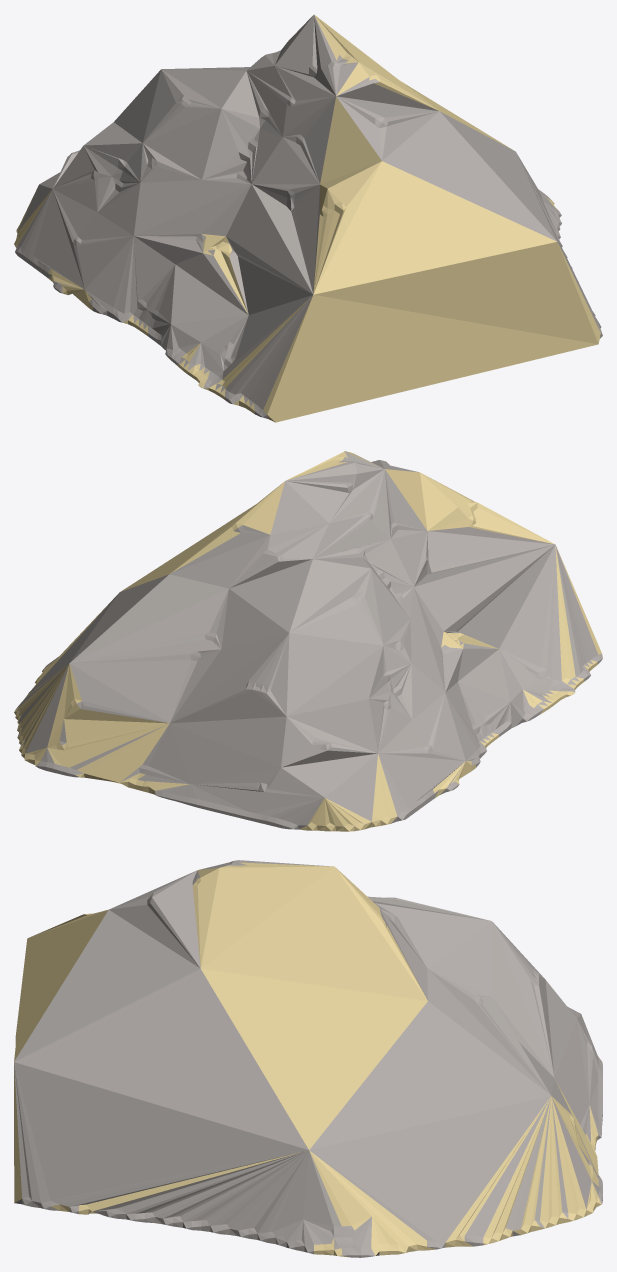
File: rock_e.glb
3 renders of one model, top to bottom at view 1: azimuth 30°, elevation 25°; view 2: azimuth 150°, elevation 25°; view 3: azimuth 270°, elevation 25°, orthographic. The views are drawn at different scales.
Visible parts, largest first — view 1: Mesh_0.010; view 2: Mesh_0.010; view 3: Mesh_0.010.
Boxes of the visible parts, bbox=[...] form: Mesh_0.010: bbox=[14, 14, 602, 422]; Mesh_0.010: bbox=[14, 451, 602, 831]; Mesh_0.010: bbox=[14, 860, 602, 1257].
Bounding box in the file's own units: 0.9627 × 0.5013 × 0.9999.
